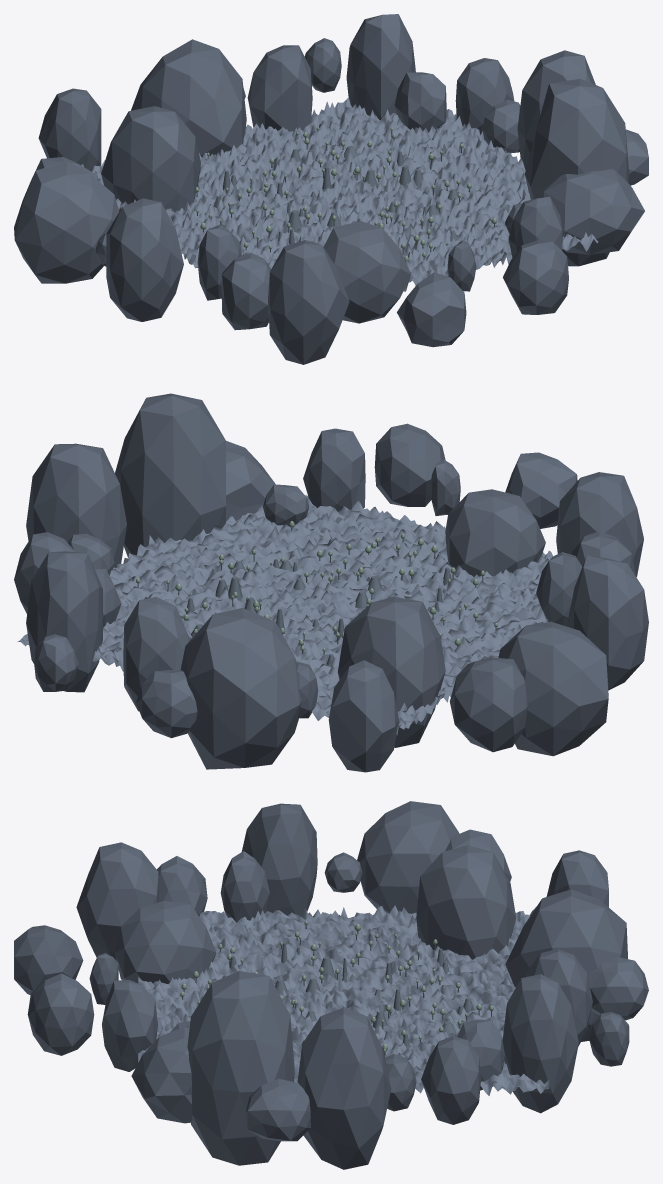
The model's file is wuthering-waves.gltf.
The picture shows the model from 3 angles, top to bottom: view 1: azimuth 30°, elevation 25°; view 2: azimuth 150°, elevation 25°; view 3: azimuth 270°, elevation 25°; orthographic projection. The views are drawn at different scales.
Bounding box in the file's own units: 394 × 117 × 371.
